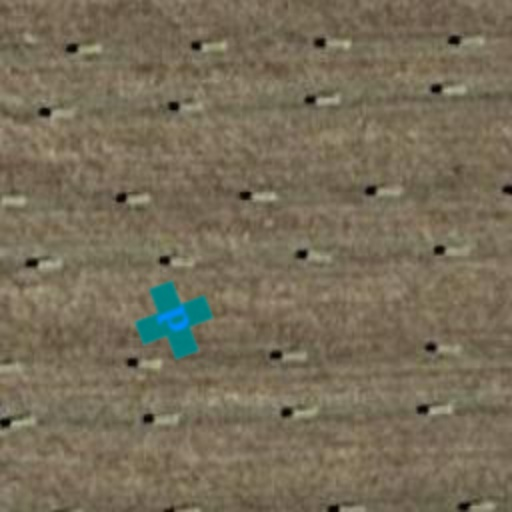cross: (124, 270, 224, 370)
